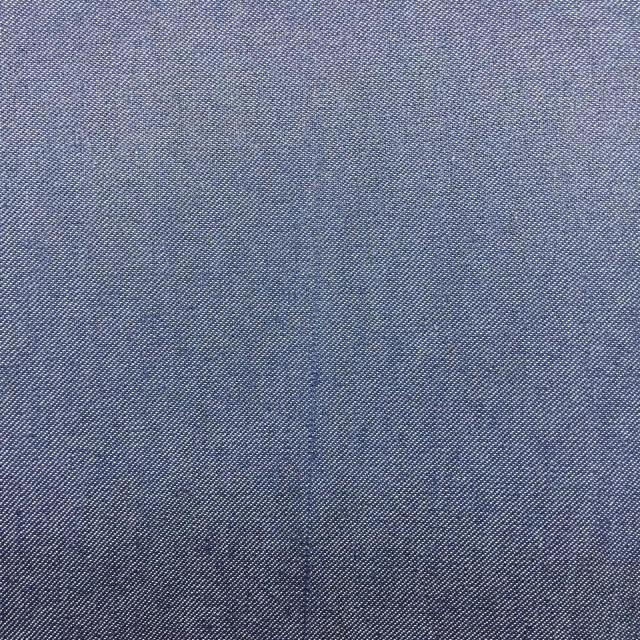Line: (300, 123, 322, 639)
